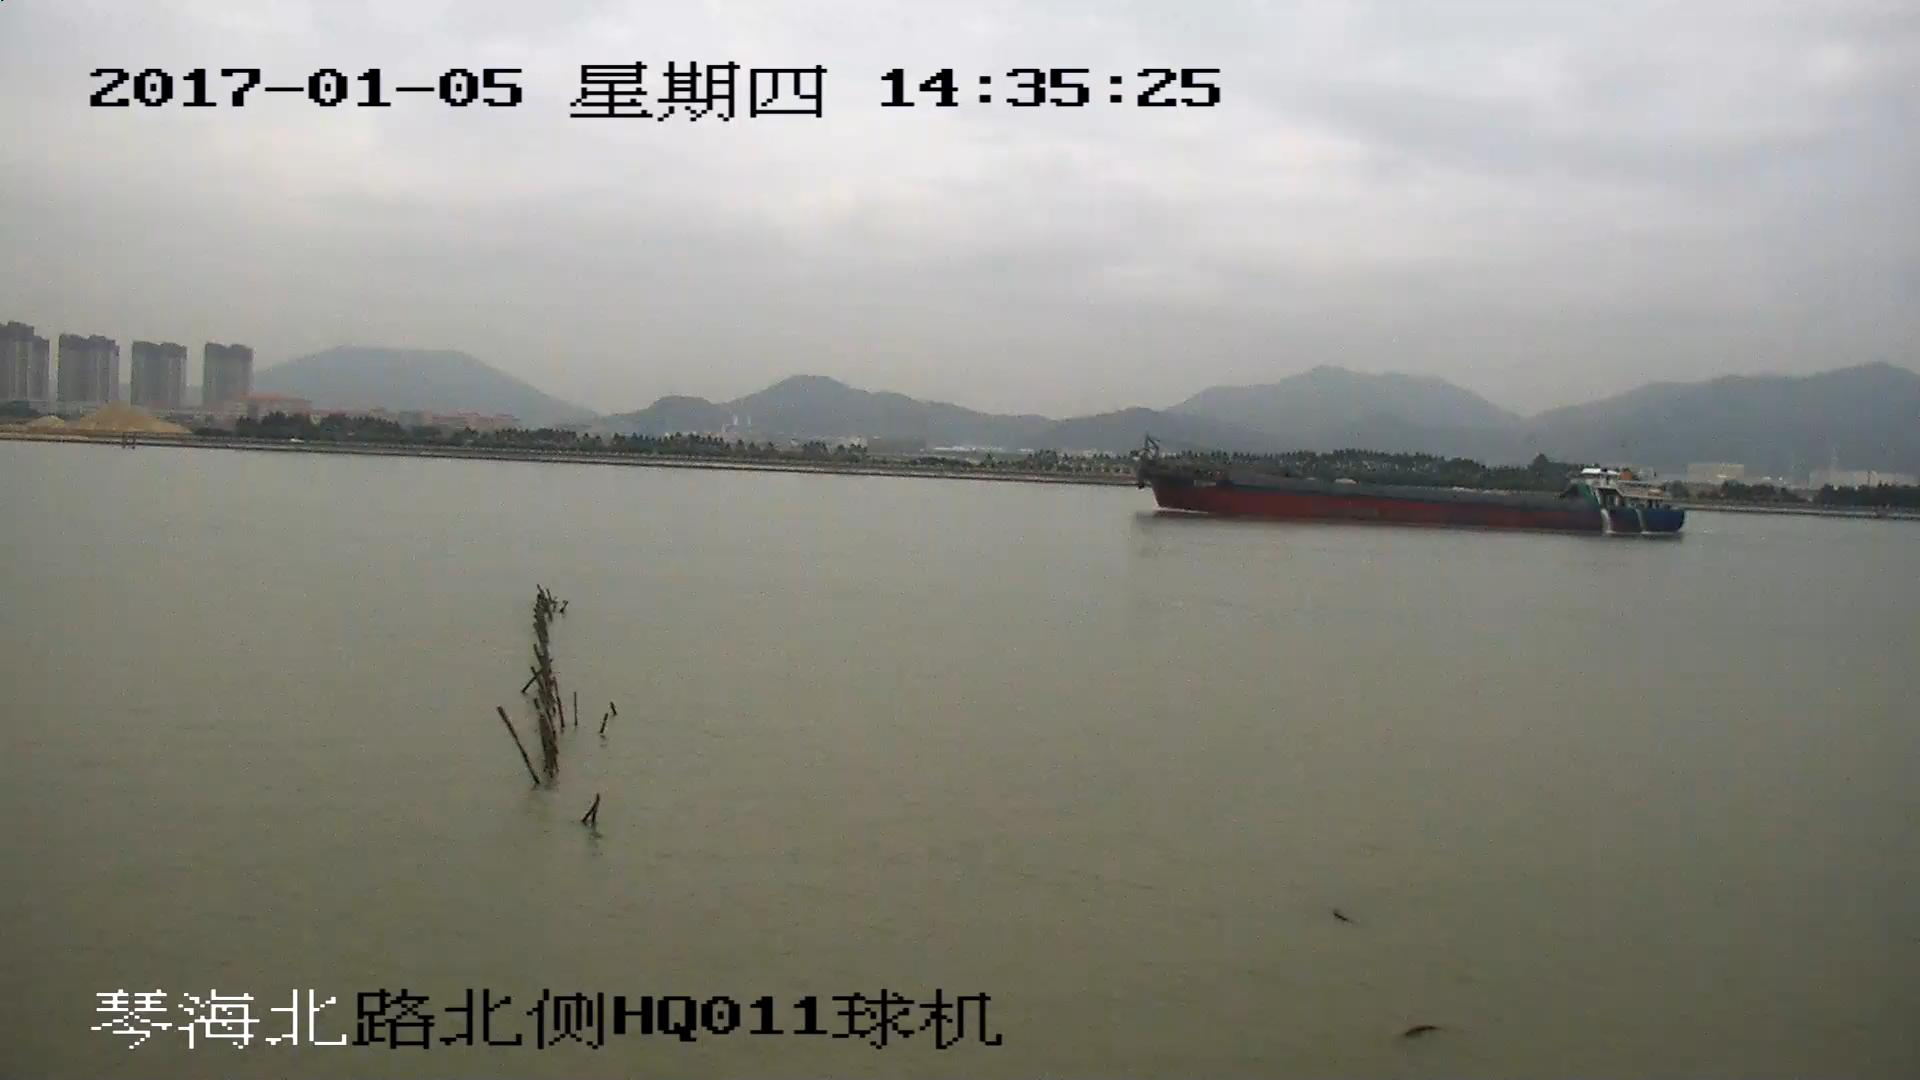bulk cargo carrier: (1137, 433, 1688, 533)
